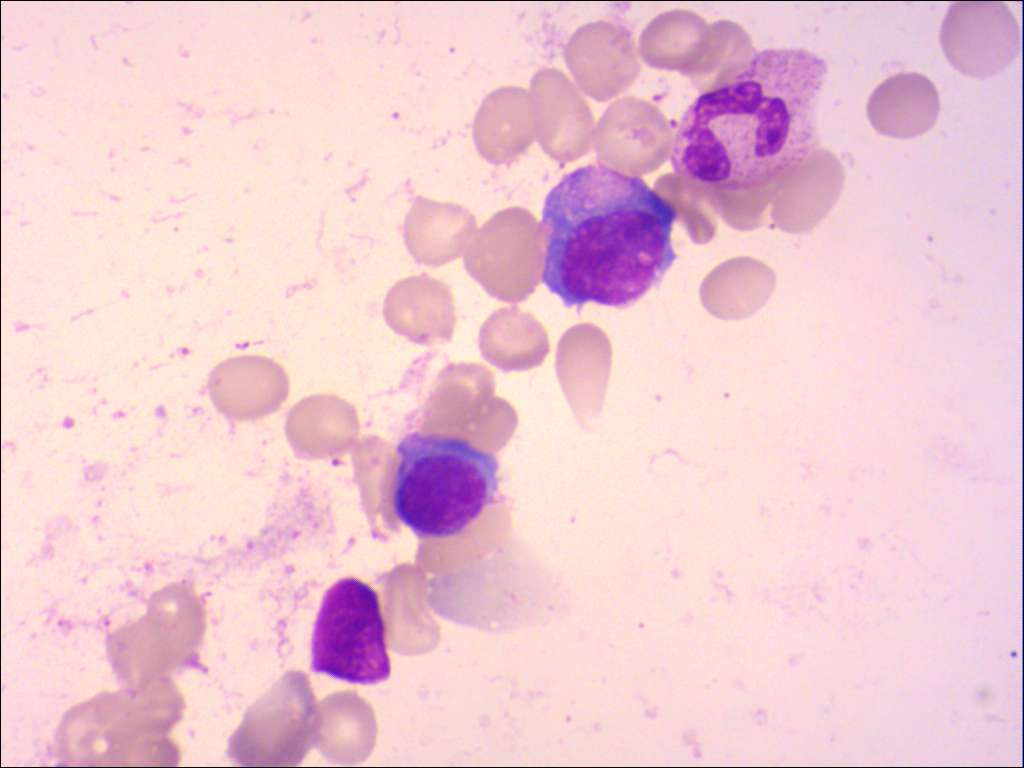5: (665, 43, 831, 192)
51: (537, 160, 682, 317), (391, 427, 503, 540)
x: (306, 572, 393, 687)
